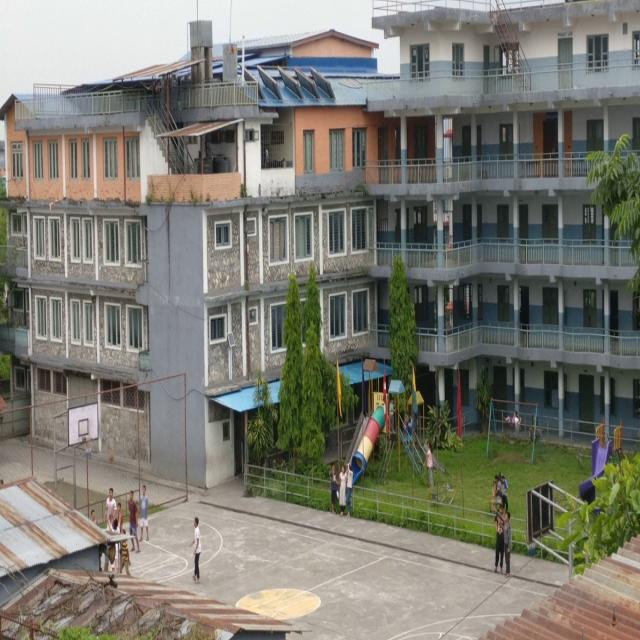body: (492, 505, 512, 579), (106, 506, 122, 578), (492, 502, 506, 574), (188, 516, 202, 584), (127, 489, 141, 555), (118, 527, 132, 581), (138, 484, 150, 542), (329, 461, 341, 515), (338, 463, 348, 517), (105, 486, 117, 530), (424, 440, 434, 489), (493, 473, 505, 513), (497, 473, 509, 513), (345, 462, 353, 518), (503, 410, 521, 432), (491, 480, 499, 514), (389, 396, 396, 434), (115, 502, 123, 534), (262, 143, 270, 171), (406, 417, 412, 450), (90, 509, 100, 527), (0, 477, 4, 487)
